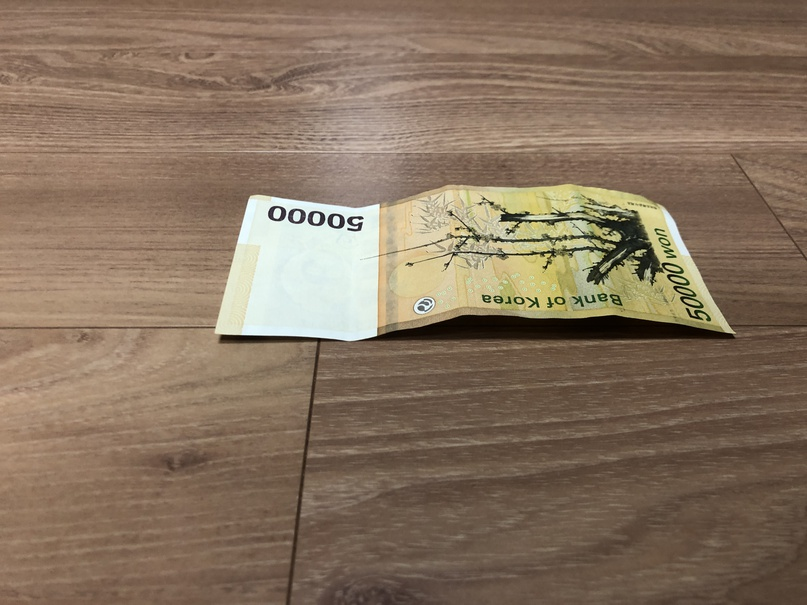50000won: (214, 182, 737, 342)
